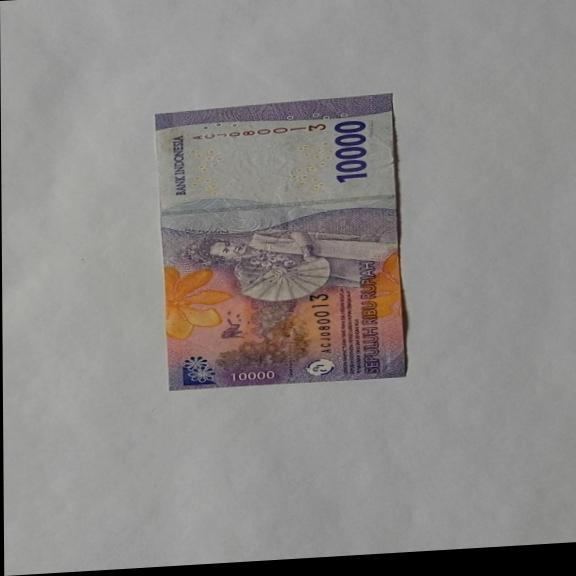Kertas: (153, 92, 408, 392)
